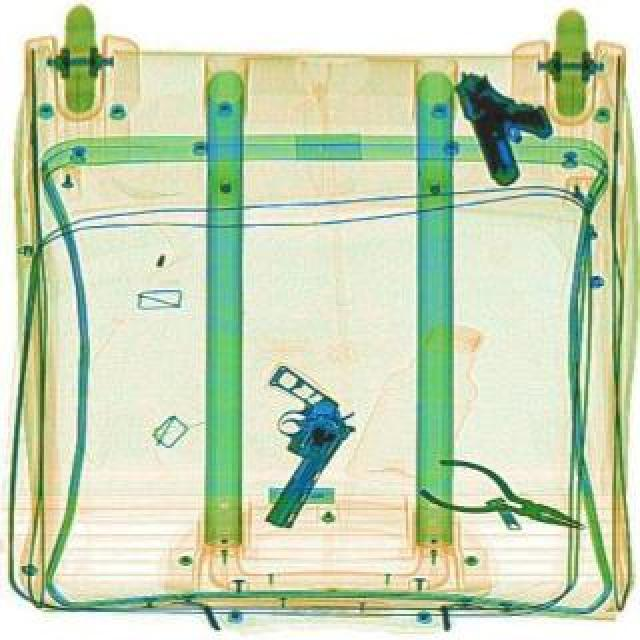gun: (200, 362, 366, 532), (446, 52, 566, 190)
wrench: (414, 448, 592, 552)
